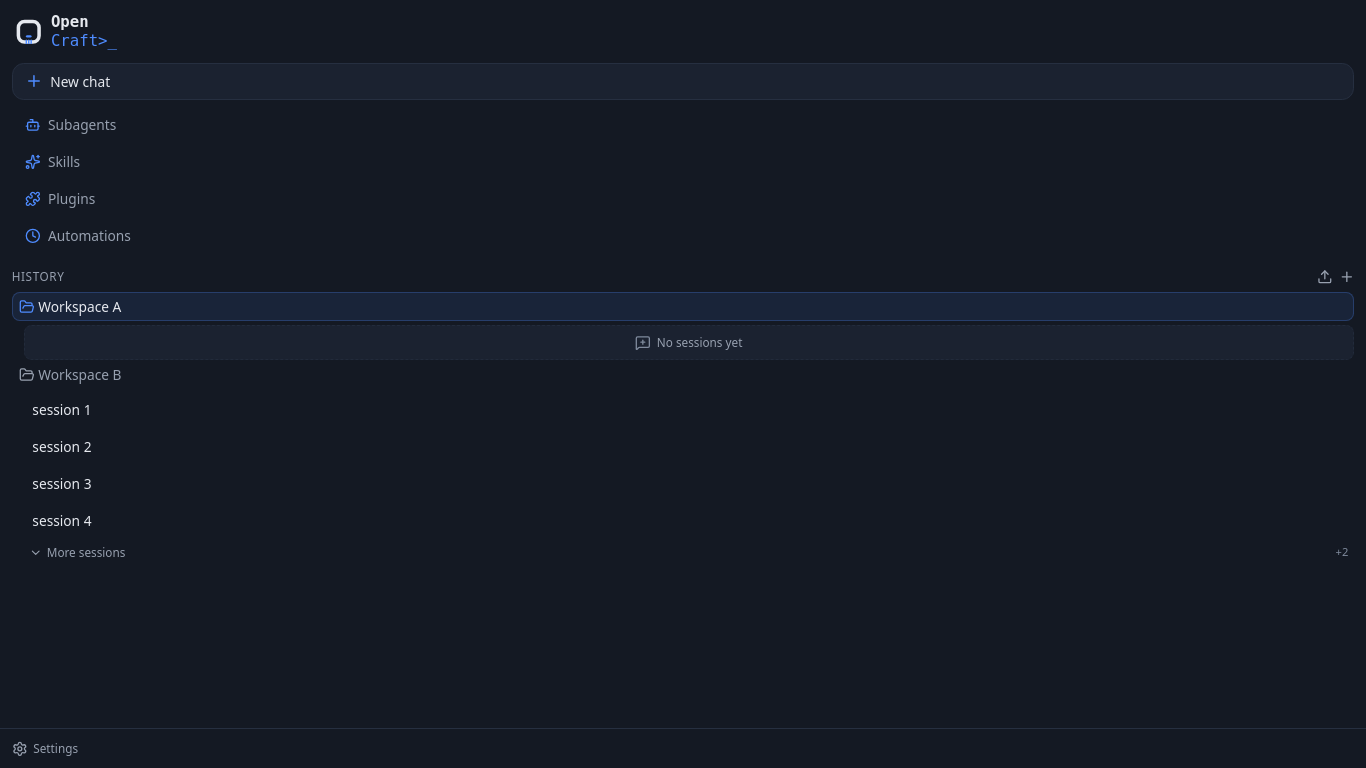
Test case: Sidebar workspace history › folds a workspace past the 4-row preview behind "More sessions"
Expected: the text "session 1" is shown, [32,400,92,419]
Expected: the text "session 2" is shown, [32,437,92,456]
Click the button with test id "more-sessions" at (86, 552), box [24,541,1354,564]
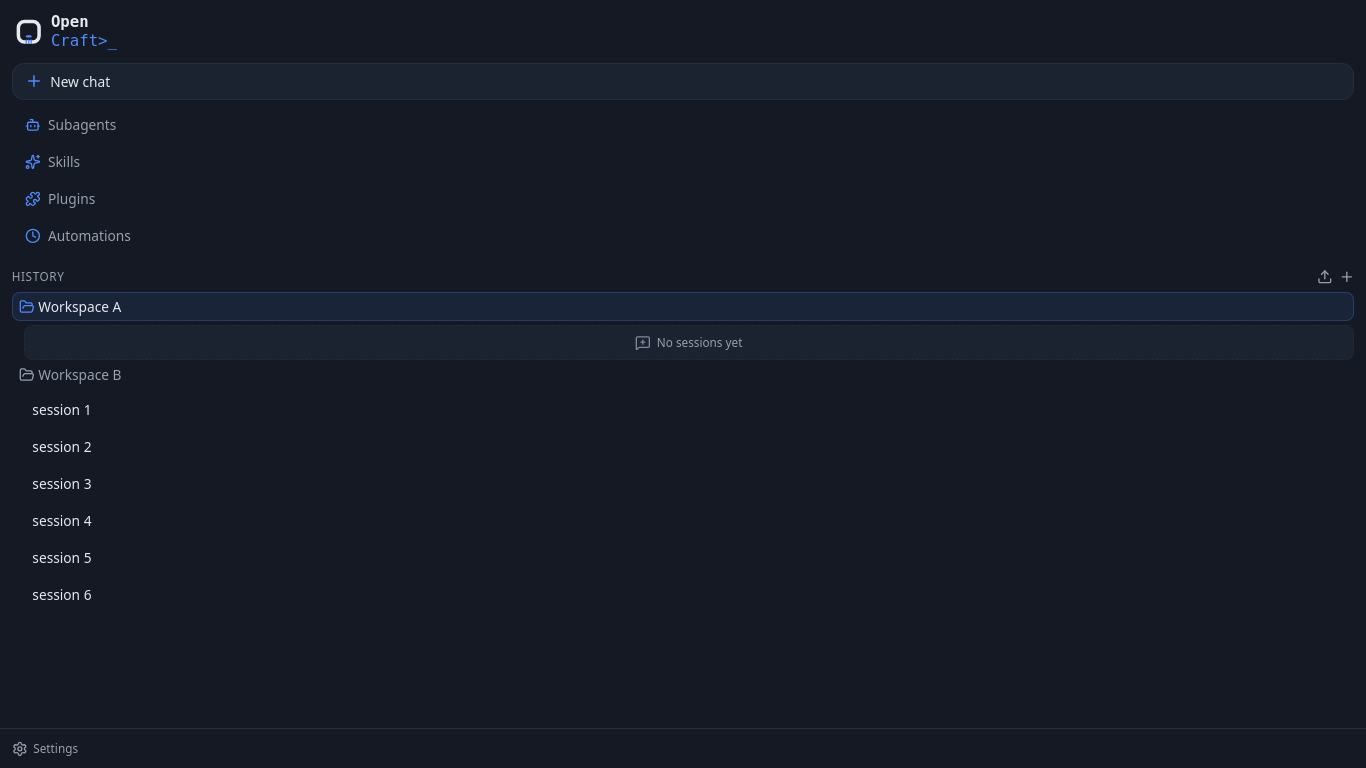
Expected: the button with test id "more-sessions" is gone
Expected: the text "session 5" is shown, [32,548,92,567]
Expected: the text "session 6" is shown, [32,585,92,604]
